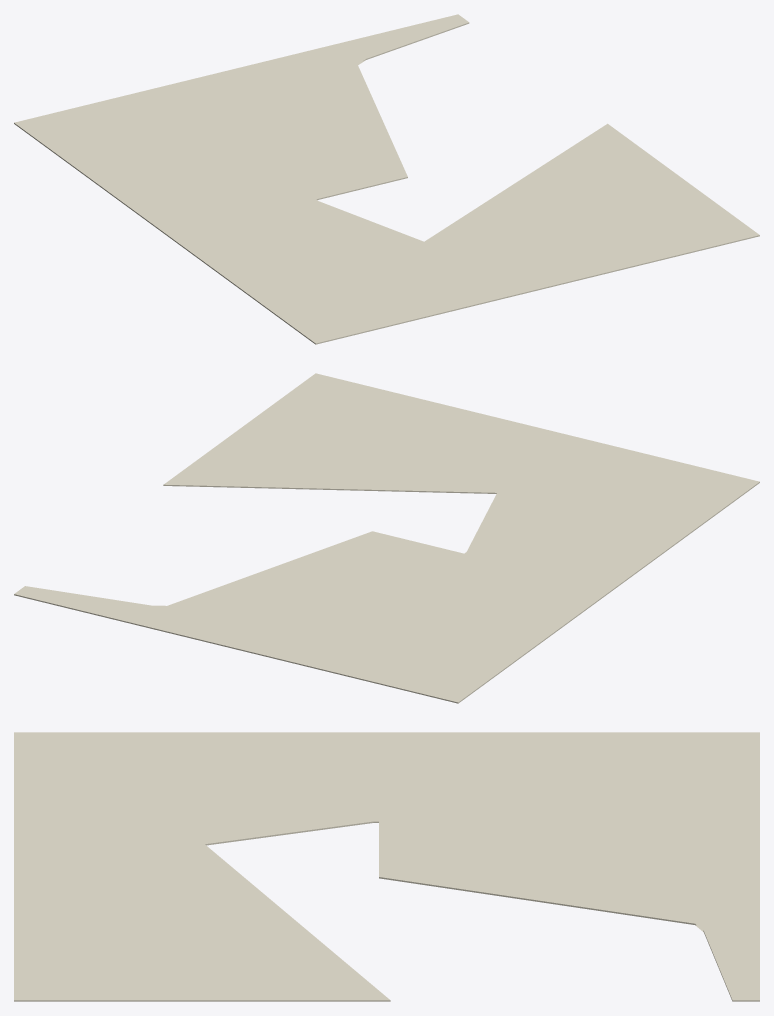
File: 220621_Ministry of Justice_3D_Celing.fbx
The picture shows the model from 3 angles, top to bottom: view 1: azimuth 30°, elevation 25°; view 2: azimuth 150°, elevation 25°; view 3: azimuth 270°, elevation 25°; orthographic projection. The views are drawn at different scales.
Visible parts, largest first — view 1: Celing.002, Celing.001, Celing.004, Celing.006, Celing.005; view 2: Celing.002, Celing.001, Celing.004, Celing.006, Celing.005; view 3: Celing.002, Celing.001, Celing.004, Celing.006, Celing.005.
Part boxes in pixels (x1=…): Celing.002: x1=14, y1=14, x2=469, y2=186; Celing.001: x1=169, y1=200, x2=454, y2=344; Celing.004: x1=420, y1=123, x2=716, y2=272; Celing.006: x1=100, y1=117, x2=407, y2=236; Celing.005: x1=435, y1=203, x2=759, y2=310; Celing.002: x1=14, y1=571, x2=544, y2=703; Celing.001: x1=466, y1=448, x2=759, y2=589; Celing.004: x1=163, y1=405, x2=553, y2=493; Celing.006: x1=264, y1=531, x2=613, y2=640; Celing.005: x1=273, y1=373, x2=620, y2=473; Celing.002: x1=547, y1=732, x2=759, y2=1001; Celing.001: x1=14, y1=732, x2=375, y2=845; Celing.004: x1=120, y1=830, x2=390, y2=1001; Celing.006: x1=375, y1=732, x2=546, y2=903; Celing.005: x1=14, y1=816, x2=120, y2=1001.
Size of the model in its own units: 7898 by 20 by 9289.
